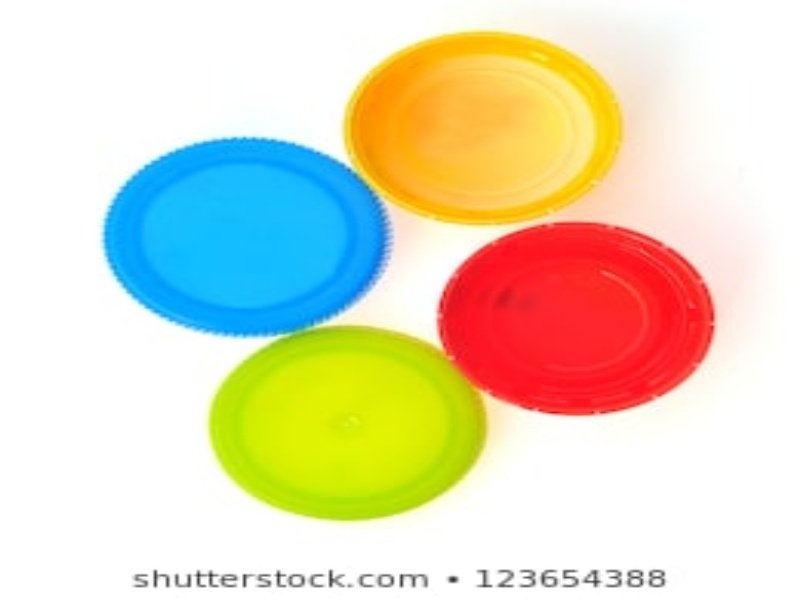bottle-cap: (98, 135, 388, 340), (345, 28, 626, 225), (208, 327, 488, 522), (435, 222, 716, 416)
